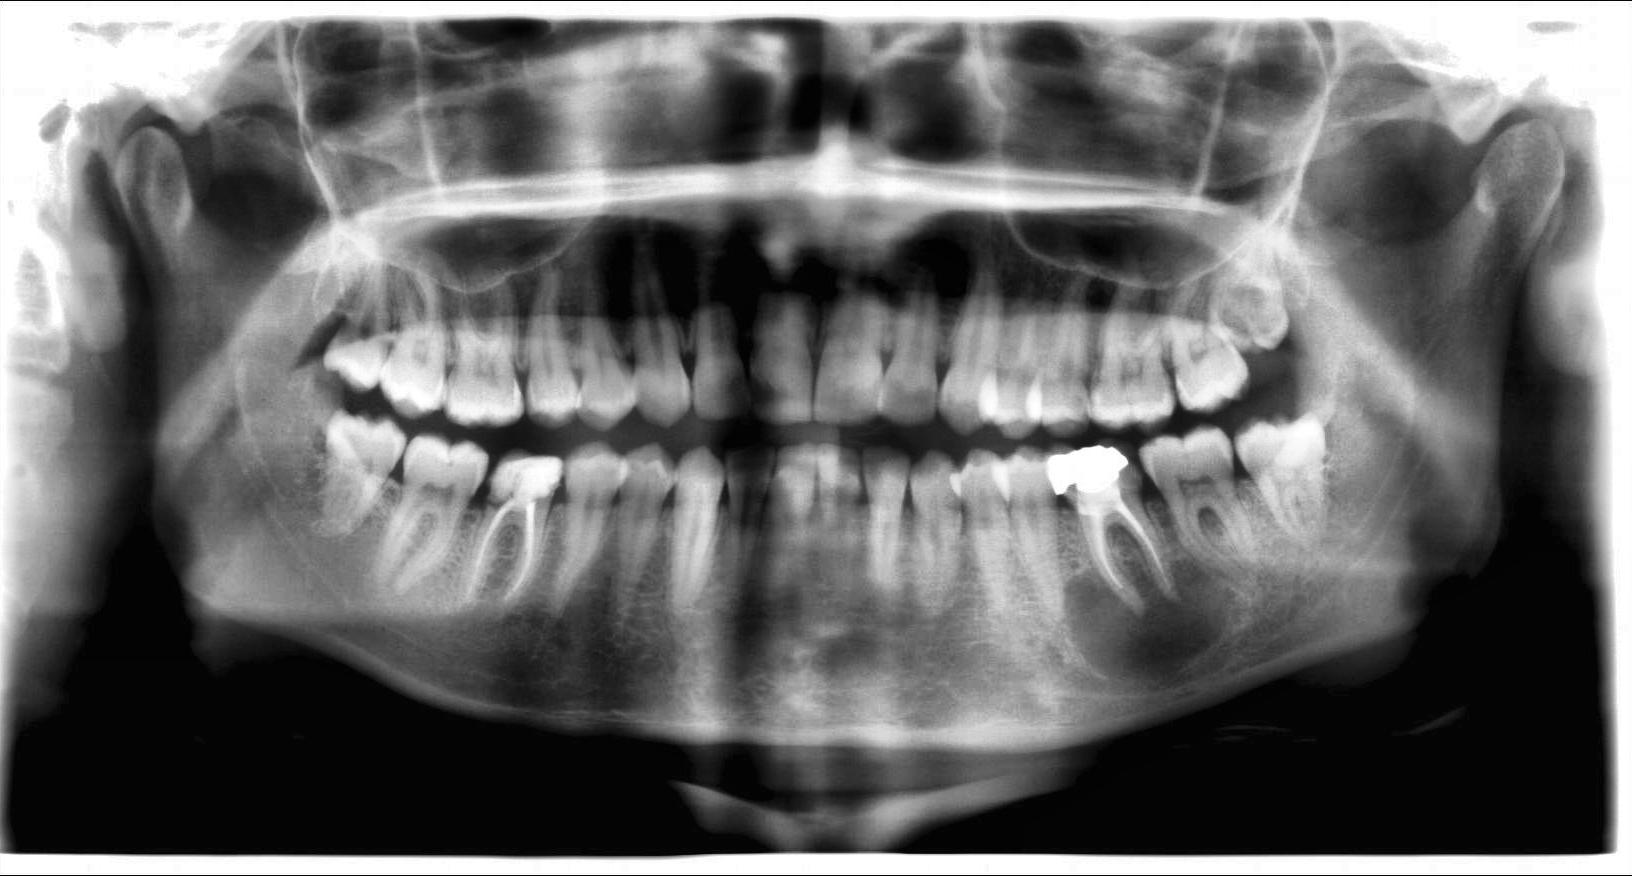radikuler: (1064, 557, 1232, 684)
